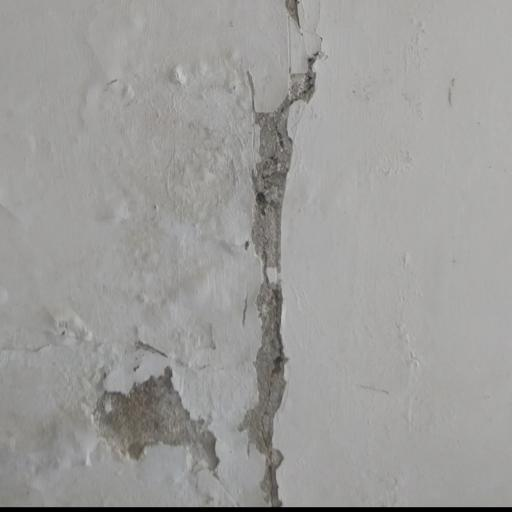peeling: (232, 0, 330, 512), (83, 308, 236, 496)
